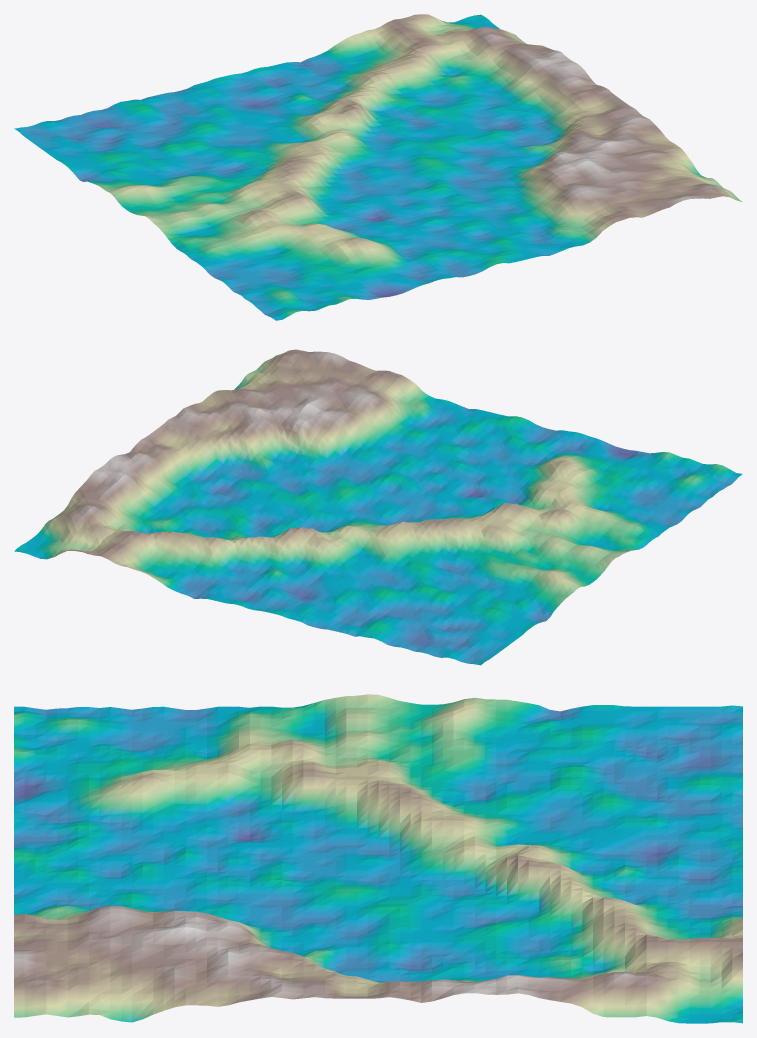
The model's file is 000199_terrain_only.glb.
3 renders of one model, top to bottom at view 1: azimuth 30°, elevation 25°; view 2: azimuth 150°, elevation 25°; view 3: azimuth 270°, elevation 25°, orthographic. The views are drawn at different scales.
Parts seen in each view (by area): view 1: terrain; view 2: terrain; view 3: terrain.
Boxes of the visible parts, x1,y1,x2,y2 form: terrain: (14, 14, 741, 320); terrain: (14, 349, 742, 665); terrain: (14, 694, 742, 1023).
Bounding box in the file's own units: 0.0189 × 0.00111 × 0.0183.
